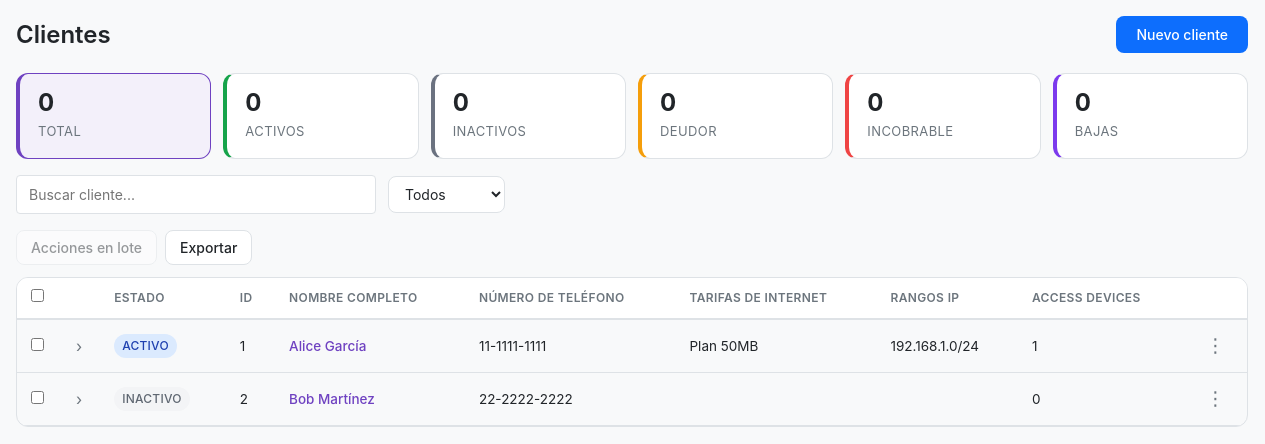
Test: CustomersListPage – actionsDropdown portalizado (Deuda #5) › el dropdown se renderiza fuera del contenedor de la página (portal al body)
# Seleccionar al menos una fila para habilitar el botón
Click the checkbox named "Seleccionar todos".
click(38, 295)  # box [31,289,44,302]
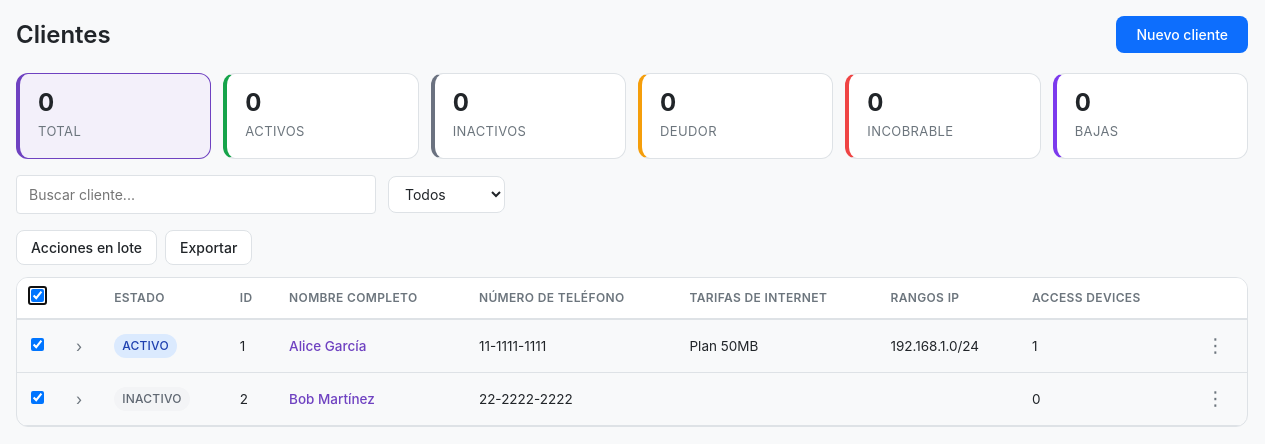
Click the button "Acciones en lote".
click(87, 247)  # box [16,230,157,265]
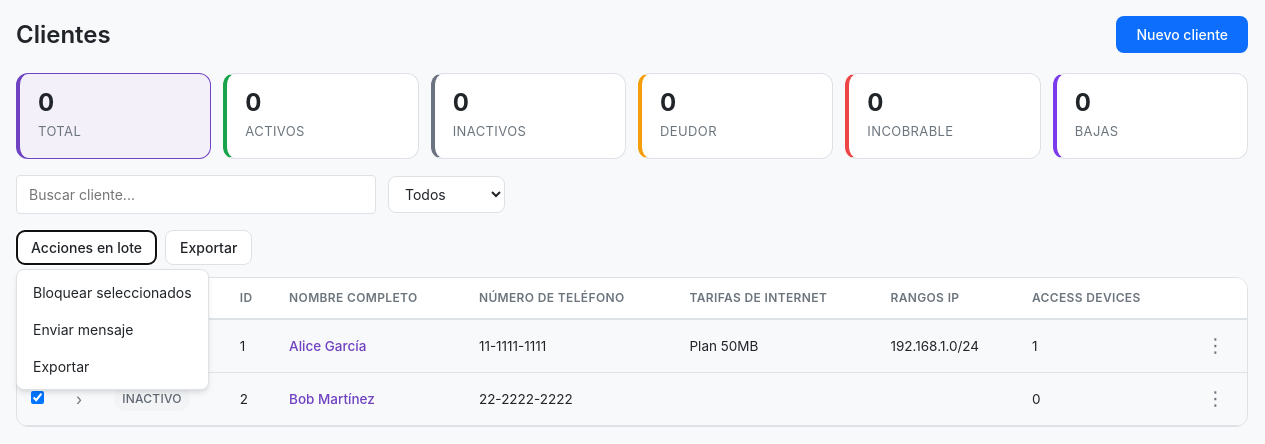
expect the list with test id "acciones-lote-dropdown" is shown: met, box [16,269,208,390]
